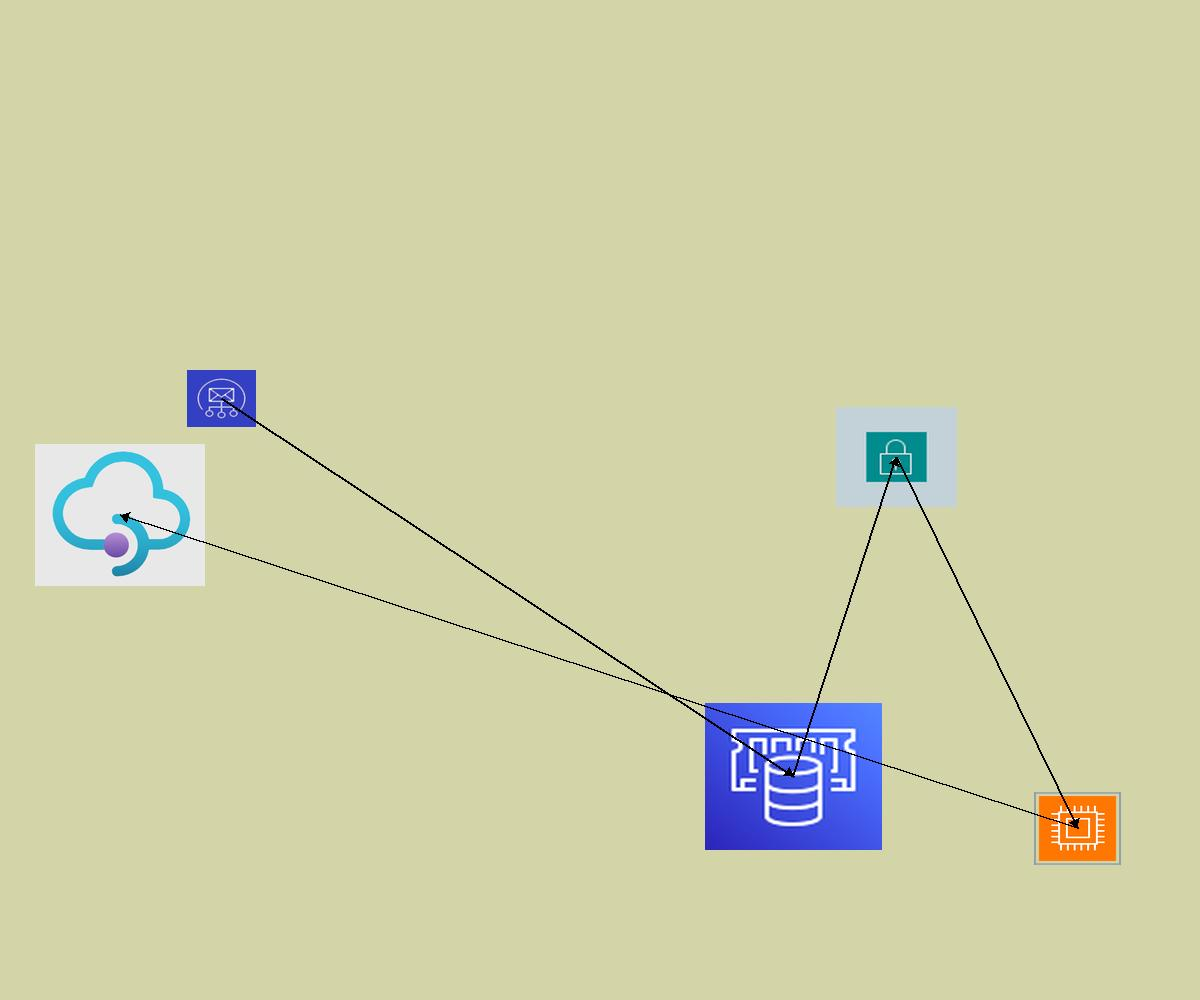AWS-Category_Compute: (1034, 792, 1121, 865)
AWS-ElastiCache: (705, 703, 882, 850)
AWS-Private-subnet: (836, 407, 957, 507)
AWS-Simple-Email-Service: (187, 370, 256, 427)
Azure_api_gateway: (35, 444, 205, 586)
